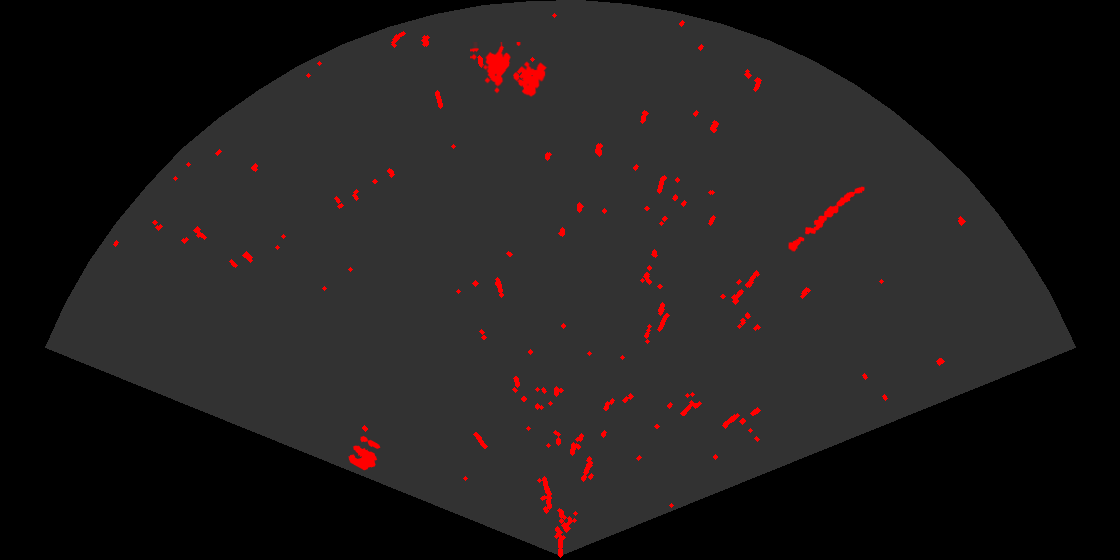ball: (347, 434, 382, 472)
cage: (470, 42, 549, 99)
chain: (787, 185, 866, 253)
